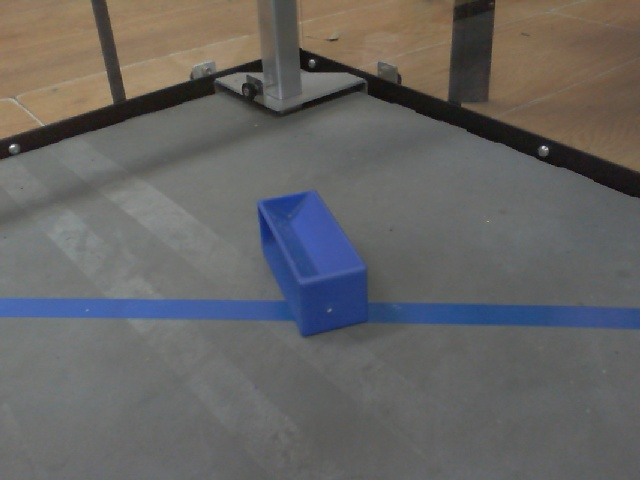BlueSample: (255, 187, 371, 339)
